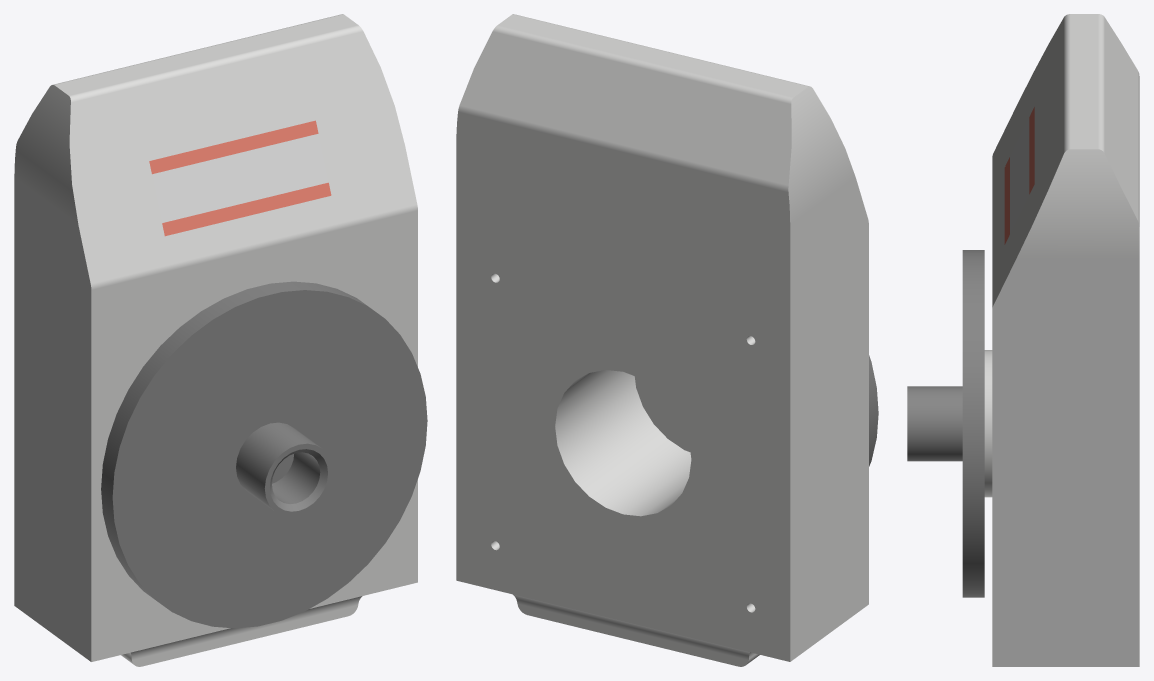
The model's file is scale.glb.
The picture shows the model from 3 angles, left to right: view 1: azimuth 30°, elevation 25°; view 2: azimuth 150°, elevation 25°; view 3: azimuth 270°, elevation 25°; orthographic projection. The views are drawn at different scales.
Visible parts, largest first — view 1: Scale; view 2: Scale; view 3: Scale.
Boxes of the visible parts, <box> form: Scale: <box>14,14,427,666</box>; Scale: <box>456,14,878,666</box>; Scale: <box>907,14,1139,666</box>.
Bounding box in the file's own units: 196 × 320 × 126.
